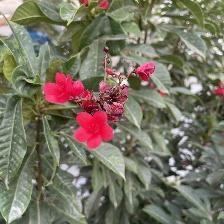jatropha: (70, 110, 118, 153)
